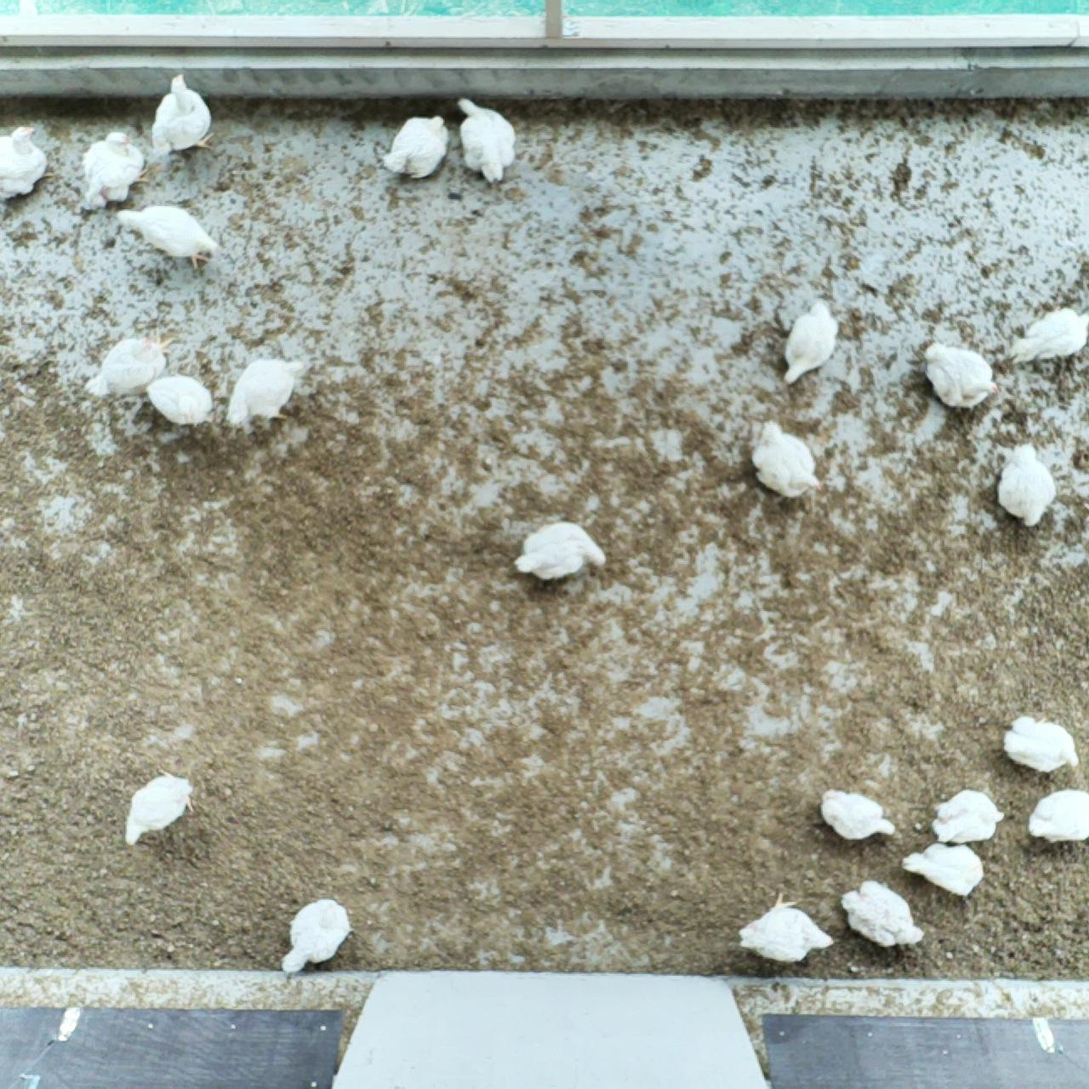chicken: (737, 890, 837, 970), (109, 202, 217, 272), (217, 352, 310, 427), (744, 419, 830, 500), (992, 438, 1062, 531), (838, 877, 925, 951), (516, 516, 610, 583), (121, 768, 200, 847), (87, 336, 177, 405), (146, 68, 218, 154), (278, 896, 353, 977), (78, 124, 147, 212), (780, 298, 846, 385), (922, 338, 1001, 409), (456, 94, 516, 186), (380, 109, 450, 186), (1000, 711, 1079, 775), (1008, 302, 1089, 364), (818, 786, 903, 841), (905, 840, 982, 899), (932, 787, 1007, 847), (0, 119, 50, 202), (1022, 787, 1089, 844), (145, 375, 218, 427)
